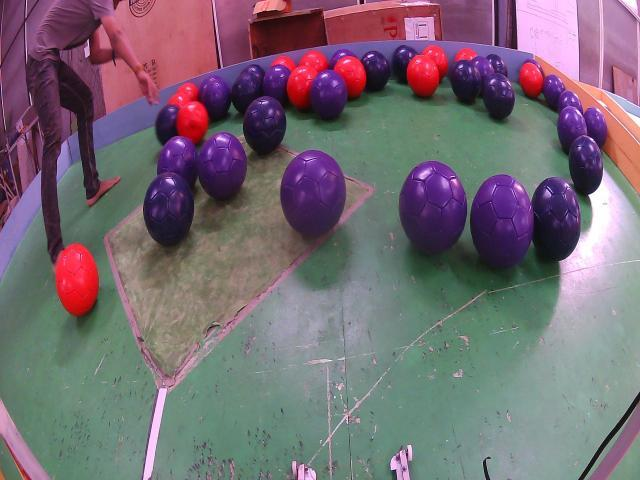jambhalya: (399, 162, 468, 253), (470, 175, 534, 268), (280, 150, 346, 235), (198, 132, 248, 200), (158, 137, 198, 188), (310, 70, 348, 120), (558, 107, 588, 153), (201, 78, 231, 120), (262, 65, 291, 105), (584, 107, 608, 148), (542, 73, 565, 110), (471, 55, 495, 83), (558, 90, 584, 113), (198, 75, 220, 102), (329, 48, 355, 70), (524, 58, 545, 78)
kaalyya: (532, 177, 581, 260), (142, 172, 194, 245), (242, 97, 286, 155), (569, 135, 602, 195), (482, 73, 515, 118), (450, 60, 482, 103), (231, 73, 262, 114), (361, 50, 390, 92), (155, 103, 179, 145), (392, 45, 418, 83), (486, 53, 508, 77), (241, 63, 265, 83)
